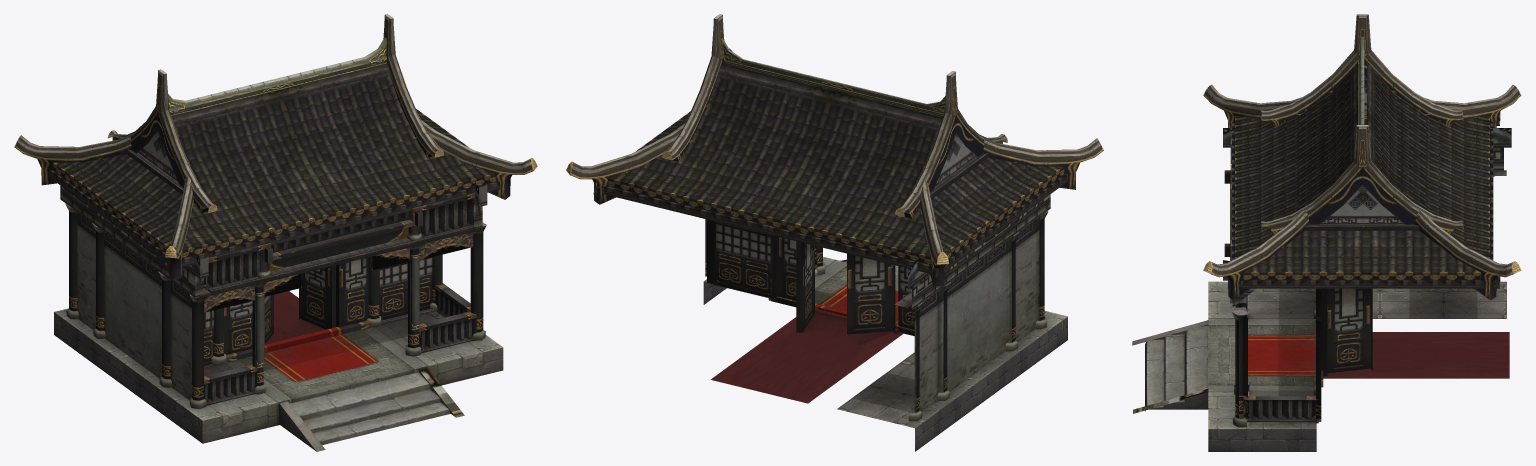
Rendered from cj_luoyang_shangpu03_56_16_0748out.fbx.
3 views of the same model, side by side, from view 1: azimuth 30°, elevation 25°; view 2: azimuth 150°, elevation 25°; view 3: azimuth 270°, elevation 25° (orthographic). The views are drawn at different scales.
Parts seen in each view (by area): view 1: cj_luoyang_shangpu03; view 2: cj_luoyang_shangpu03; view 3: cj_luoyang_shangpu03.
Boxes of the visible parts, left/top/right/bottom form: cj_luoyang_shangpu03: left=14, top=14, right=537, bottom=451; cj_luoyang_shangpu03: left=566, top=14, right=1103, bottom=451; cj_luoyang_shangpu03: left=1132, top=14, right=1521, bottom=451.
Bounding box in the file's own units: 16.19 × 12.73 × 14.57.
